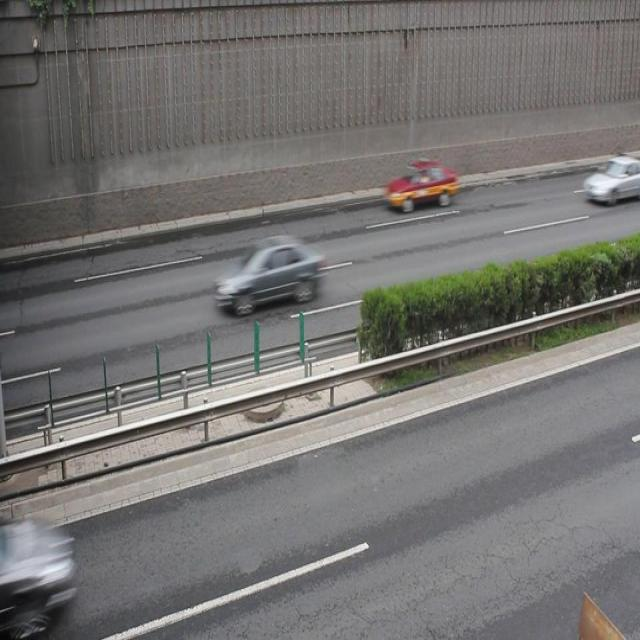car: (215, 234, 321, 314), (383, 158, 457, 212), (580, 155, 640, 205)
